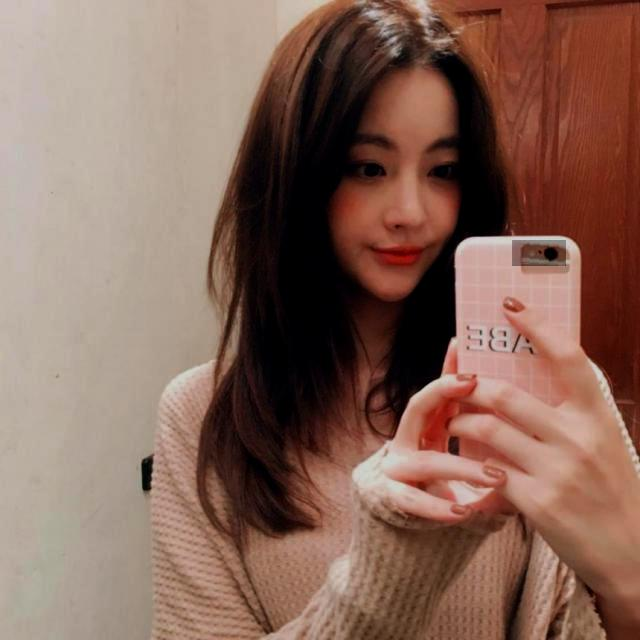lens: (512, 240, 566, 266)
phone: (452, 234, 587, 468)
